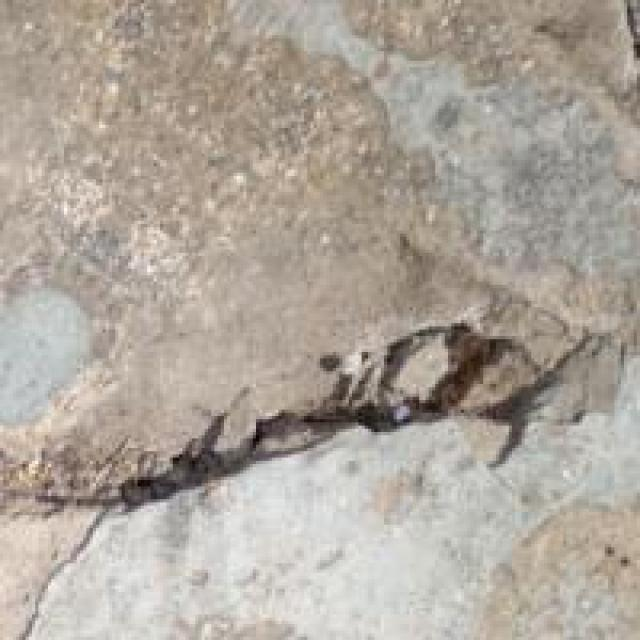Crack: (4, 306, 562, 558)
